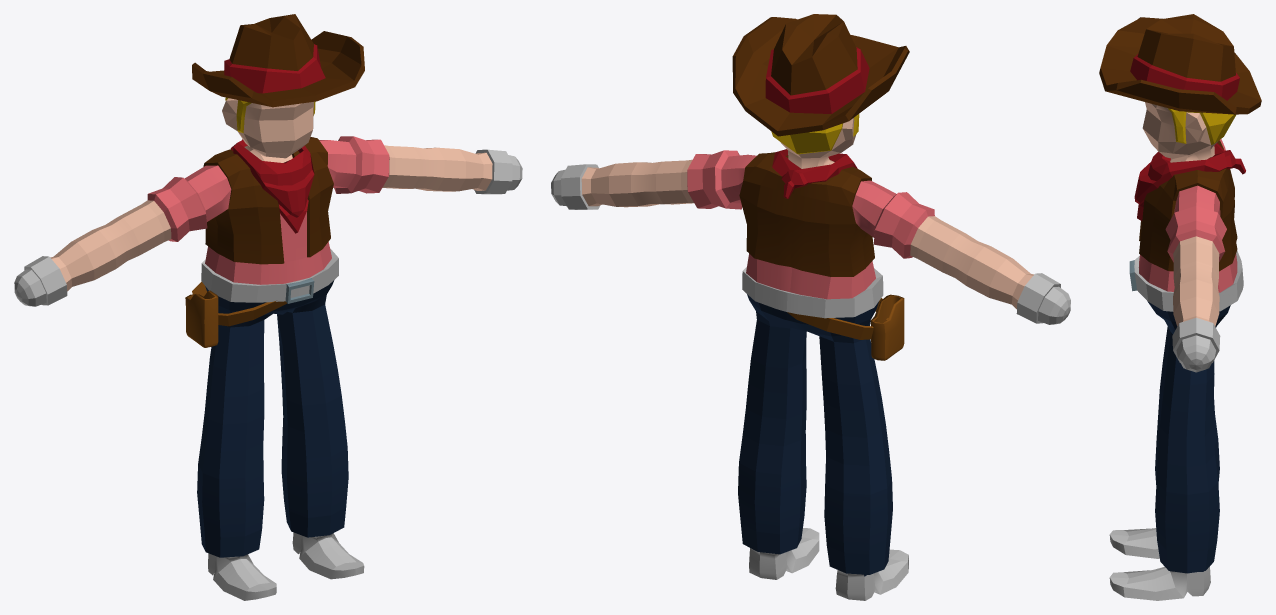
Rendered from Set1.fbx.
The picture shows the model from 3 angles, left to right: view 1: azimuth 30°, elevation 25°; view 2: azimuth 150°, elevation 25°; view 3: azimuth 270°, elevation 25°; orthographic projection. The views are drawn at different scales.
Visible parts, largest first — view 1: Cowboy; view 2: Cowboy; view 3: Cowboy.
Part boxes in pixels (left/top/right/bottom): Cowboy: left=14, top=14, right=522, bottom=600; Cowboy: left=551, top=14, right=1070, bottom=600; Cowboy: left=1099, top=14, right=1261, bottom=600.
Size of the model in its own units: 175 by 180 by 48.94.
